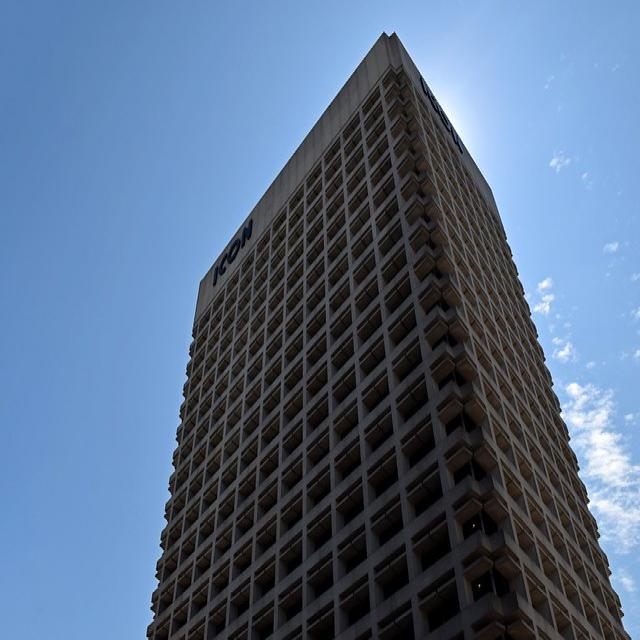Normal_building: (140, 27, 630, 640)
